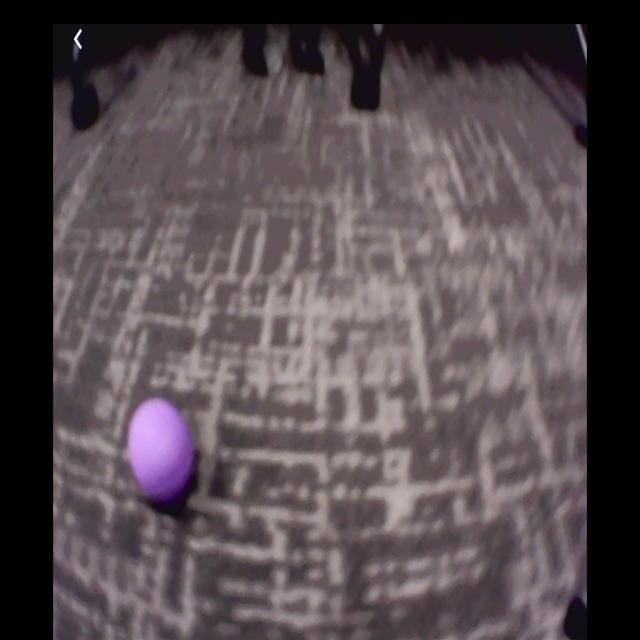ball: (128, 398, 194, 498)
